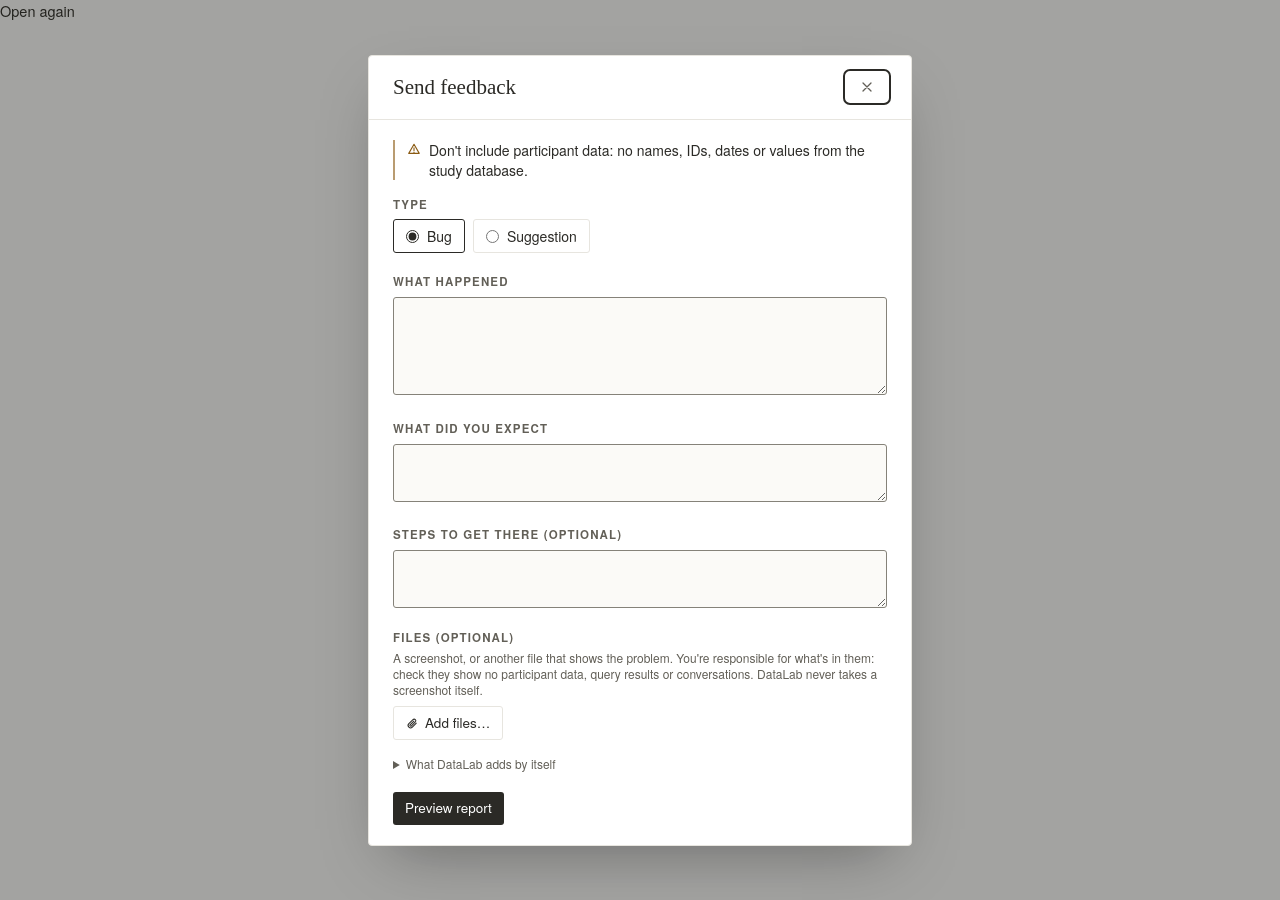
Test: the form: a bug asks what happened and what was expected; a suggestion only what would help
The width and height of the screenshot is (1280, 900).
expect the text "Don't include participant data: no names, IDs, dates or values from the study database." is shown: met, box x1=429 y1=140 x2=865 y2=180
expect the text box labelled "What did you expect" is shown: met, box x1=393 y1=444 x2=887 y2=502
Click the button "Preview report". click: (448,808)
box: x1=393 y1=792 x2=504 y2=825
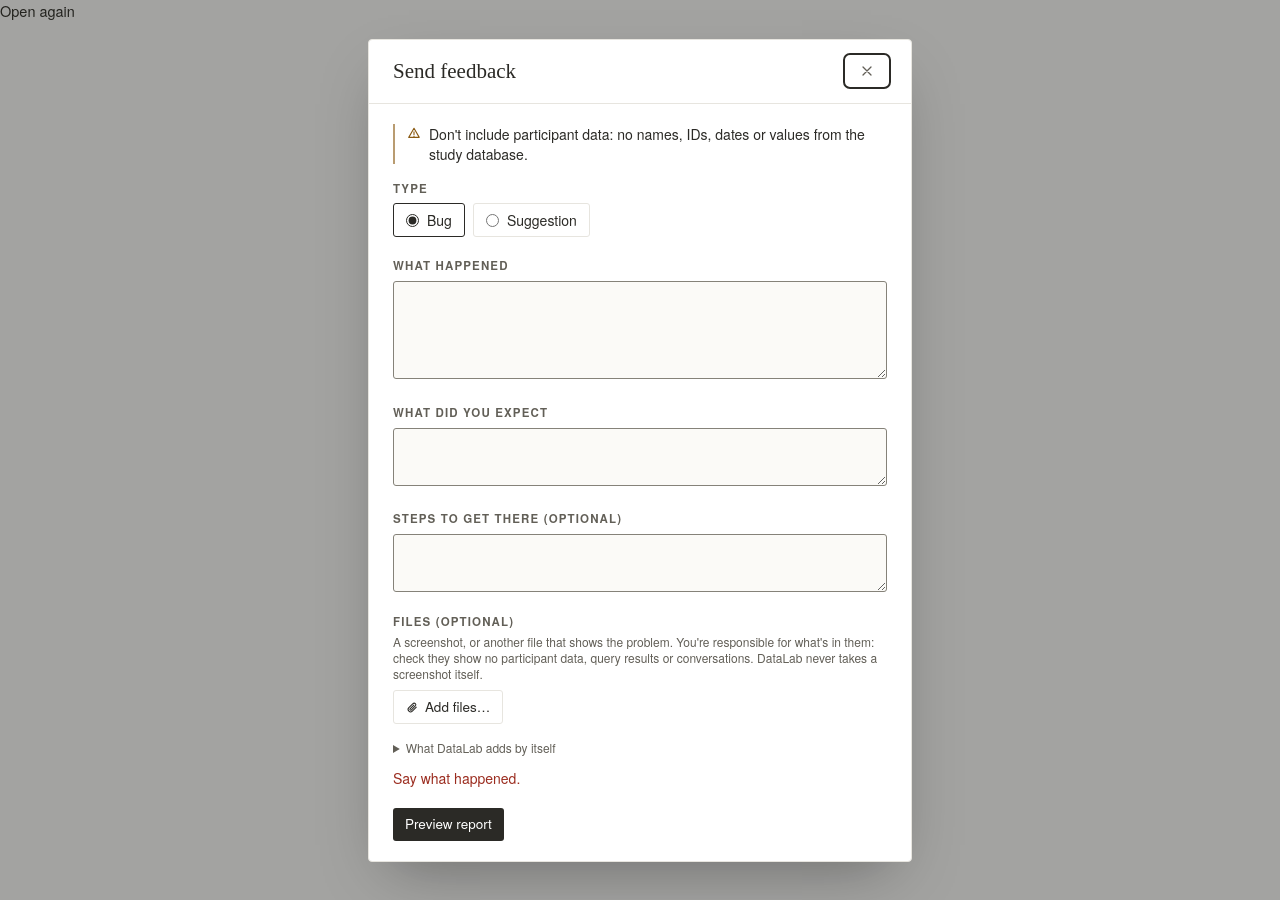
expect the message reads "Say what happened.": met, box x1=393 y1=768 x2=520 y2=788
Click the radio button labelled "Suggestion". click: (492,220)
box: x1=486 y1=214 x2=499 y2=227
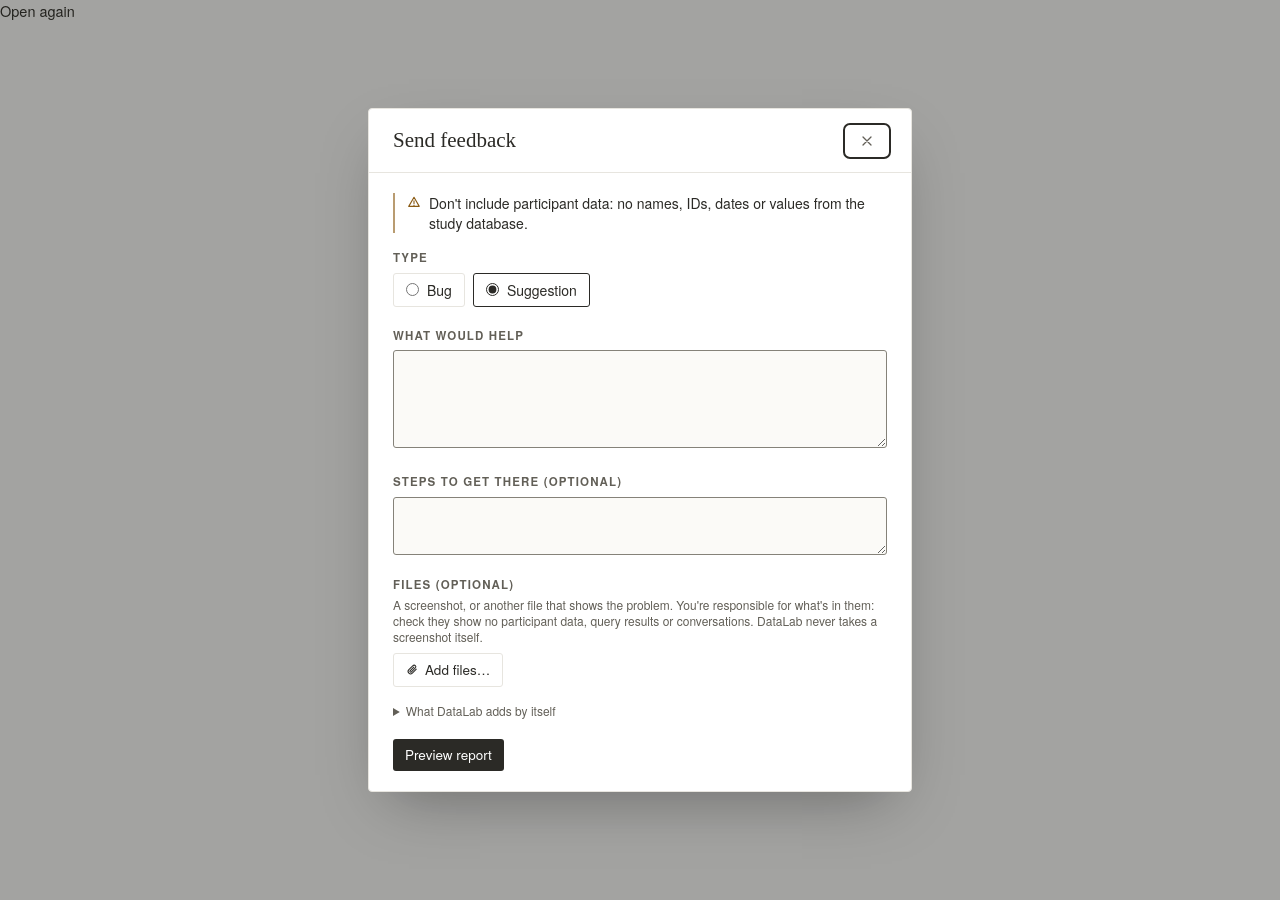
expect the text box labelled "What would help" is shown: met, box x1=393 y1=350 x2=887 y2=448
expect the text "What did you expect" is gone: met
